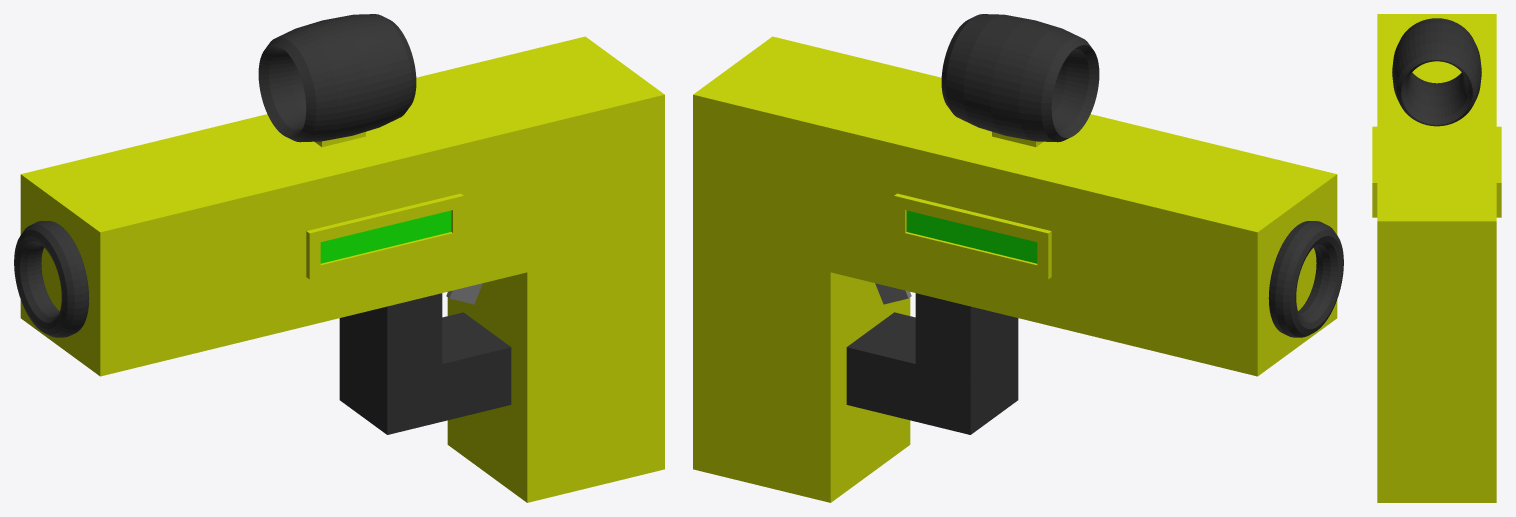
File: BallGunV4.glb
3 renders of one model, left to right at view 1: azimuth 30°, elevation 25°; view 2: azimuth 150°, elevation 25°; view 3: azimuth 270°, elevation 25°, orthographic. The views are drawn at different scales.
Parts seen in each view (by area): view 1: Cube.012, Cube.003, Mire, ForwardPart, CadrantLife, LifeTime; view 2: Cube.012, Cube.003, Mire, ForwardPart, CadrantLife, LifeTime; view 3: Cube.012, Mire, CadrantLife.
Boxes of the visible parts, <box> form: Cube.012: <box>20,36,664,502</box>; Cube.003: <box>339,293,511,434</box>; Mire: <box>258,14,416,142</box>; ForwardPart: <box>14,221,89,337</box>; CadrantLife: <box>306,193,463,279</box>; LifeTime: <box>320,210,451,263</box>; Cube.012: <box>693,36,1337,502</box>; Cube.003: <box>846,293,1018,434</box>; Mire: <box>941,14,1099,142</box>; ForwardPart: <box>1268,221,1343,337</box>; CadrantLife: <box>894,193,1051,279</box>; LifeTime: <box>906,210,1037,263</box>; Cube.012: <box>1377,14,1496,502</box>; Mire: <box>1392,18,1481,126</box>; CadrantLife: <box>1372,126,1501,217</box>.
Bounding box in the file's own units: 2.13 × 1.69 × 0.54.
